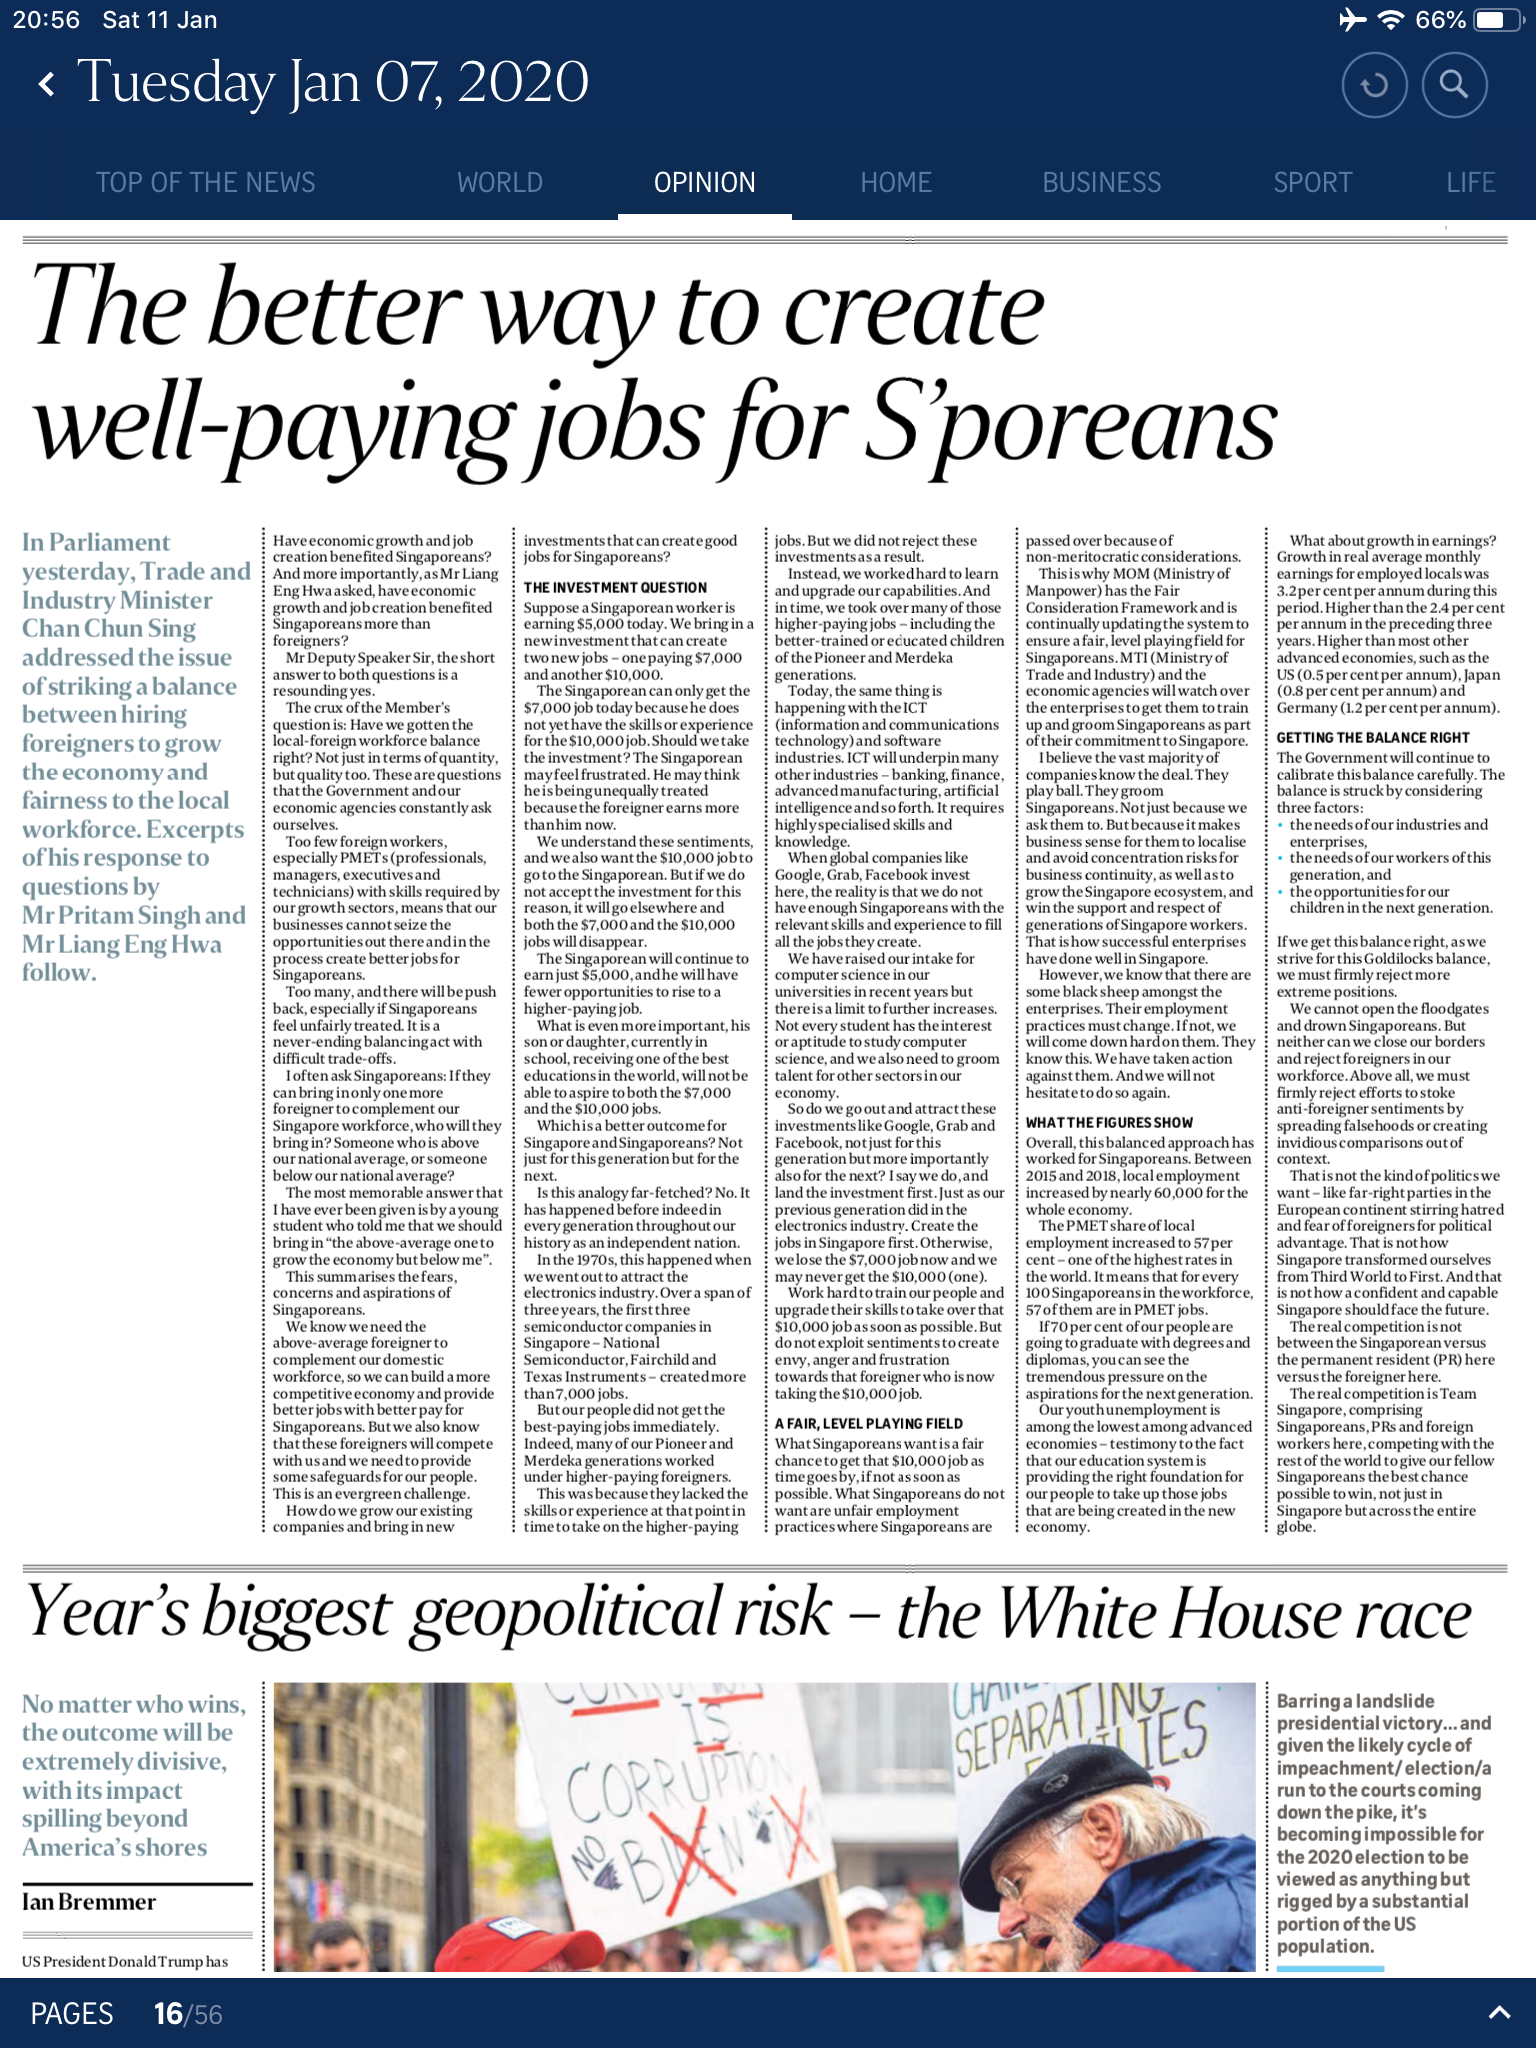Byline: (21, 1888, 160, 1914)
Headline: (32, 253, 1279, 487), (26, 1577, 1484, 1656)
Image: (274, 1682, 1255, 1972)
Text: (273, 531, 503, 1537), (520, 534, 750, 1540), (771, 531, 1002, 1537), (1275, 531, 1505, 1537), (1025, 534, 1255, 1538), (21, 531, 253, 987), (1276, 1692, 1496, 1954), (23, 1692, 245, 1858)
